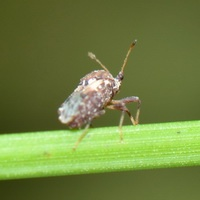insect: (58, 40, 140, 150)
